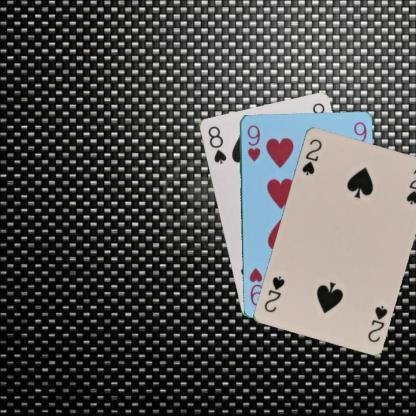2s: (299, 136, 323, 177), (364, 302, 388, 343)
8s: (205, 123, 228, 165)
9h: (244, 122, 262, 163)
